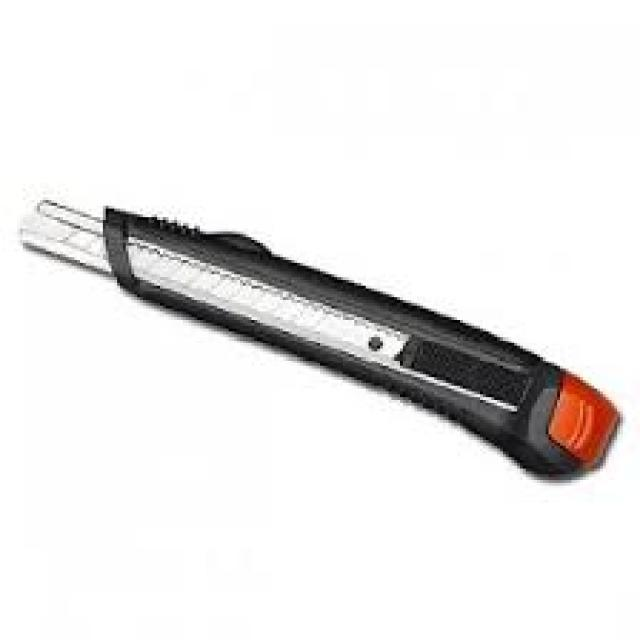cutter: (7, 172, 626, 495)
